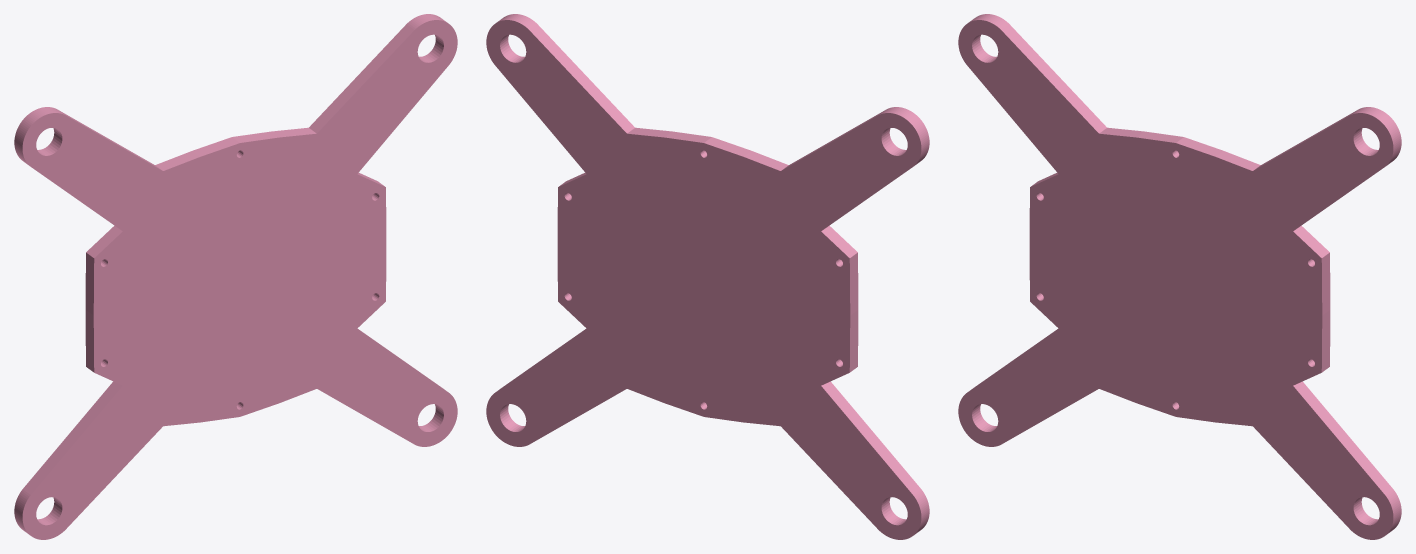
Rendered from Piece 1.obj.
3 views of the same model, side by side, from view 1: azimuth 30°, elevation 25°; view 2: azimuth 150°, elevation 25°; view 3: azimuth 330°, elevation 25° (orthographic).
Visible parts, largest first — view 1: Object.1; view 2: Object.1; view 3: Object.1.
Boxes of the visible parts, x1,y1,x2,y2 form: Object.1: (14,14,457,539); Object.1: (486,14,929,539); Object.1: (958,14,1401,539).
Bounding box in the file's own units: 145 × 136 × 4.75.
